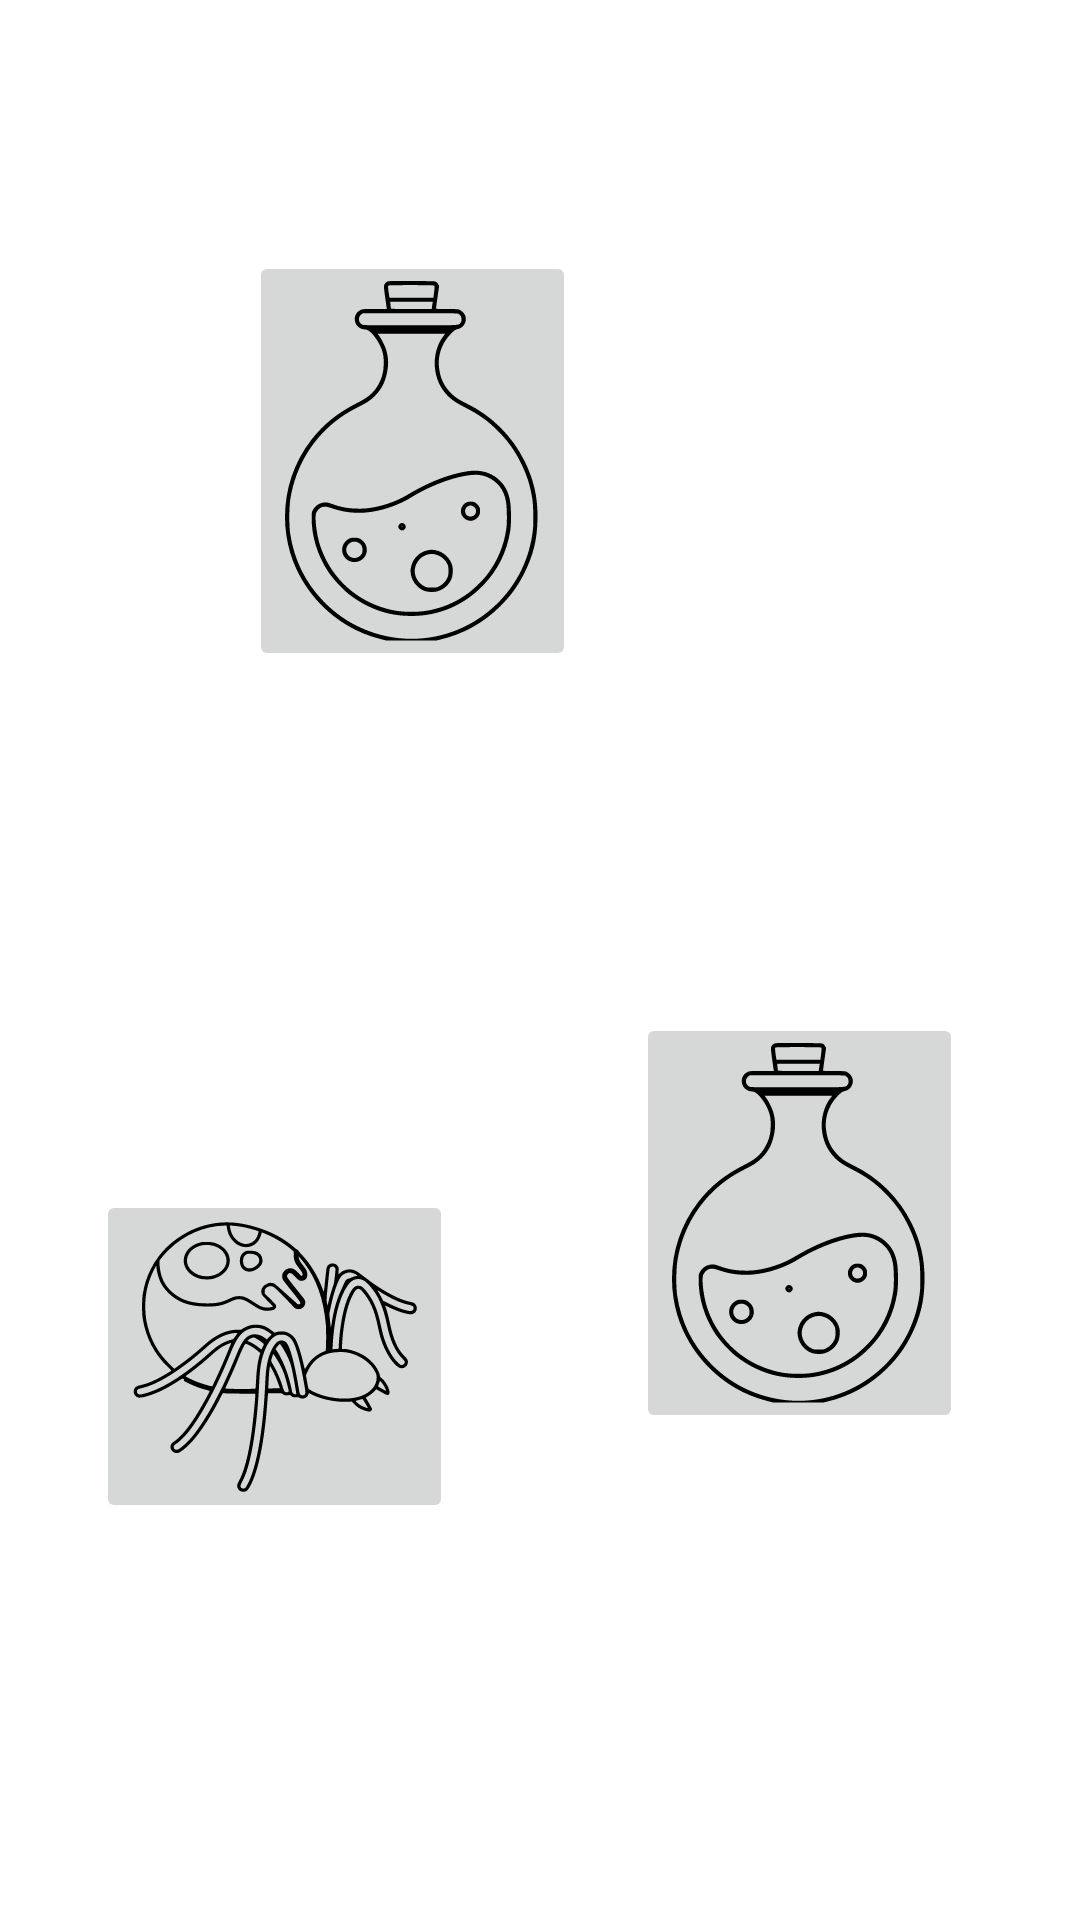

Screen size 1080w x 1920h. Icon name, then its center in pixels as [x,y]:
uncolorspider: [274,1356]
